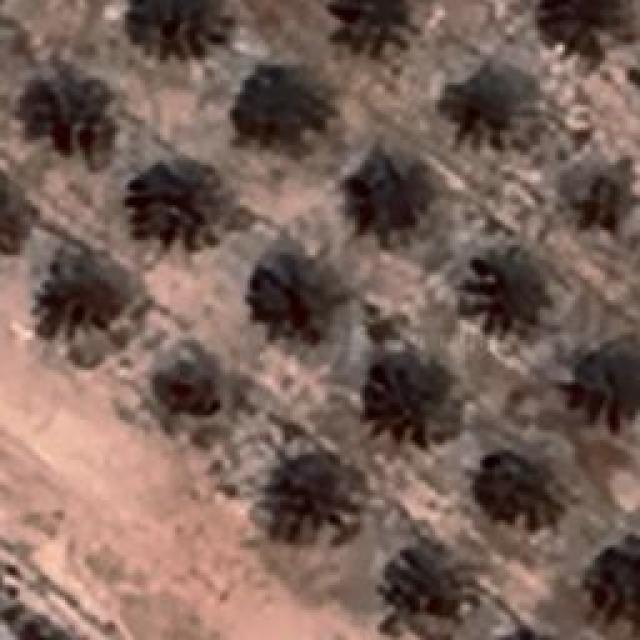PalmTree: (130, 156, 232, 246), (251, 261, 354, 349), (468, 250, 558, 348), (372, 348, 456, 434), (278, 460, 362, 545), (44, 258, 128, 342), (13, 89, 68, 216), (234, 68, 324, 142), (128, 0, 238, 60), (482, 447, 566, 525), (147, 346, 225, 428), (457, 64, 535, 142), (386, 554, 472, 624), (582, 321, 640, 419), (354, 146, 428, 222), (540, 0, 632, 58), (328, 0, 422, 55), (579, 161, 639, 231), (595, 538, 640, 622), (0, 170, 17, 260), (486, 625, 575, 640), (486, 630, 574, 640)
